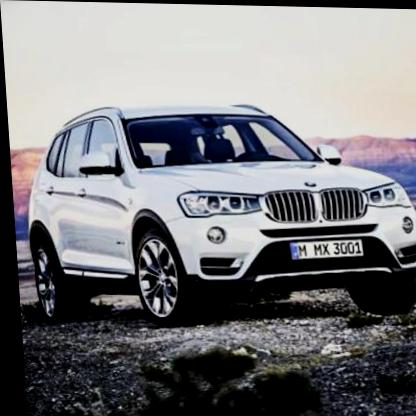License_Plate: (289, 238, 365, 263)
